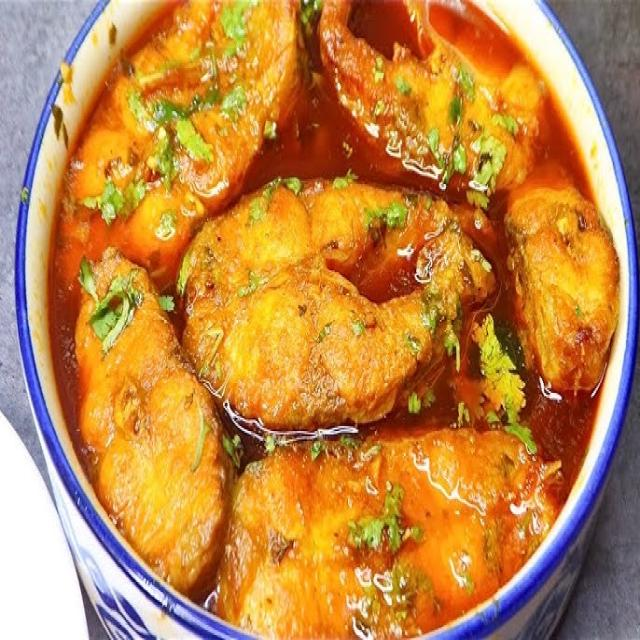FISH CURRY: (48, 0, 619, 638)
